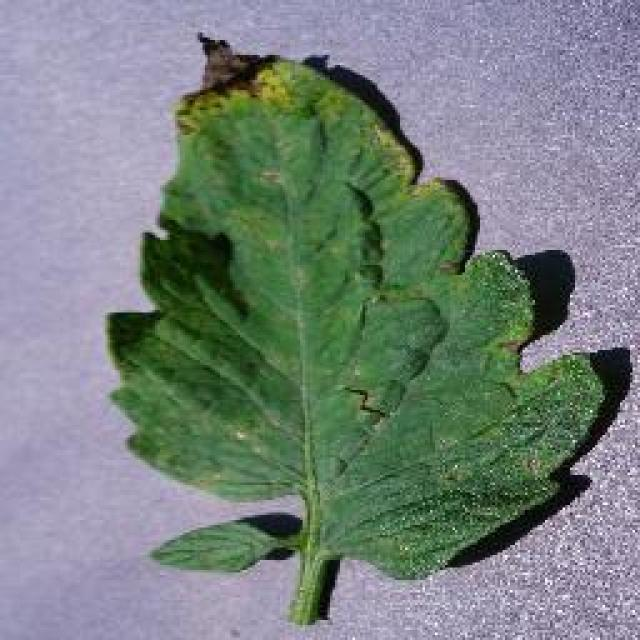Tomato___Septoria_leaf_spot: (108, 35, 602, 622)
